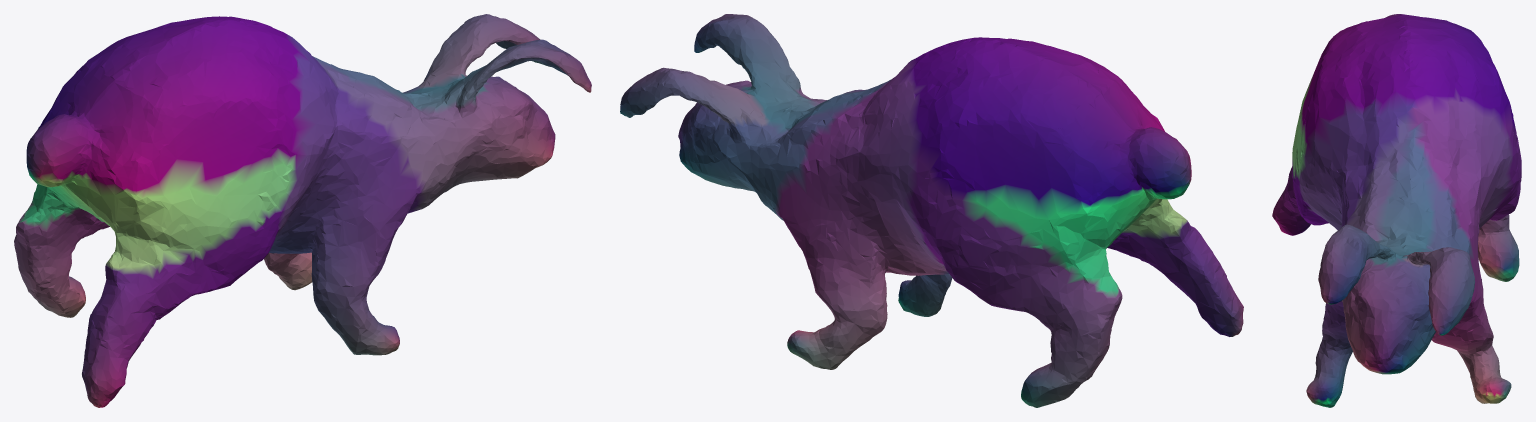
Rendered from rabbit-6.off.obj.
3 renders of one model, left to right at view 1: azimuth 30°, elevation 25°; view 2: azimuth 150°, elevation 25°; view 3: azimuth 270°, elevation 25°, orthographic. The views are drawn at different scales.
Size of the model in its own units: 1.57 by 0.9127 by 0.6587.
